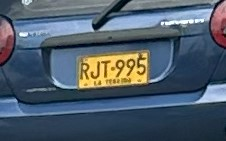number plate: (78, 50, 149, 88)
